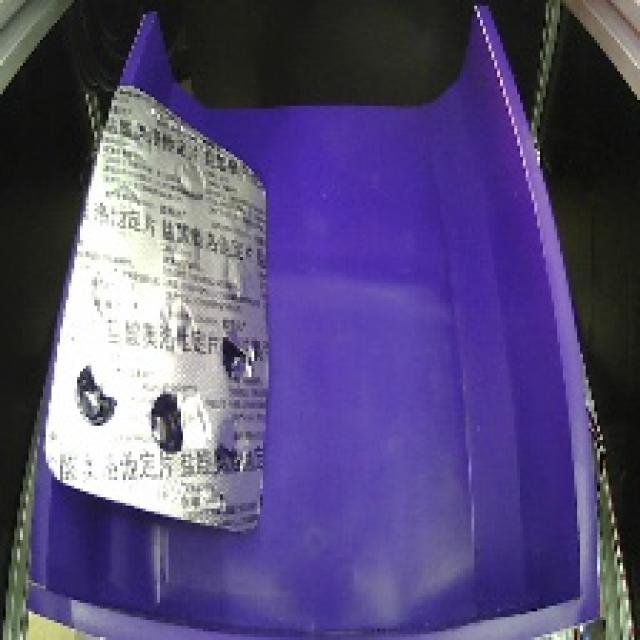med_plate: (33, 70, 287, 542)
